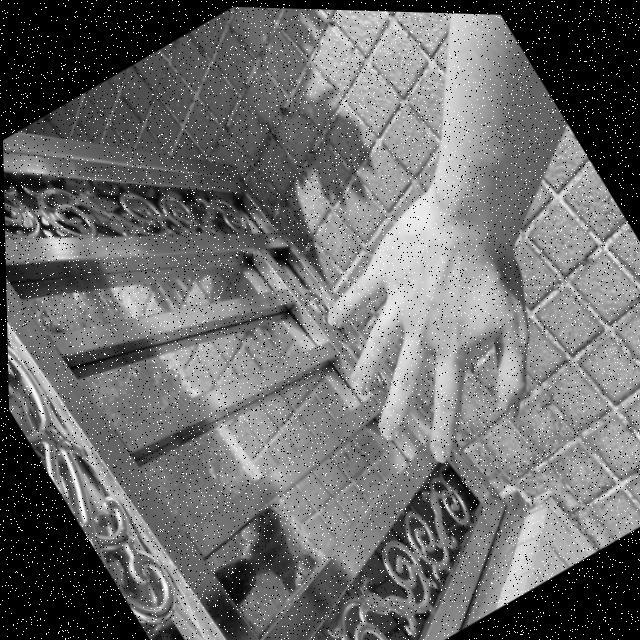hand: (270, 156, 592, 490)
